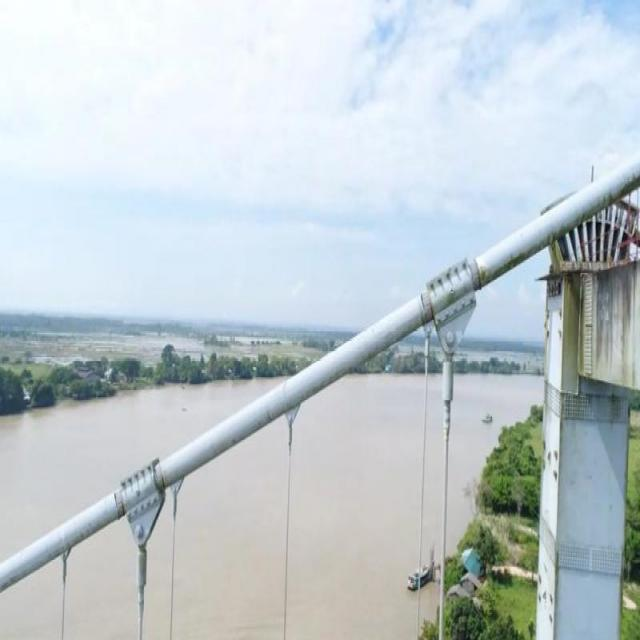Slippage: (469, 258, 482, 292), (421, 290, 433, 323), (114, 487, 125, 517), (155, 464, 165, 491)
